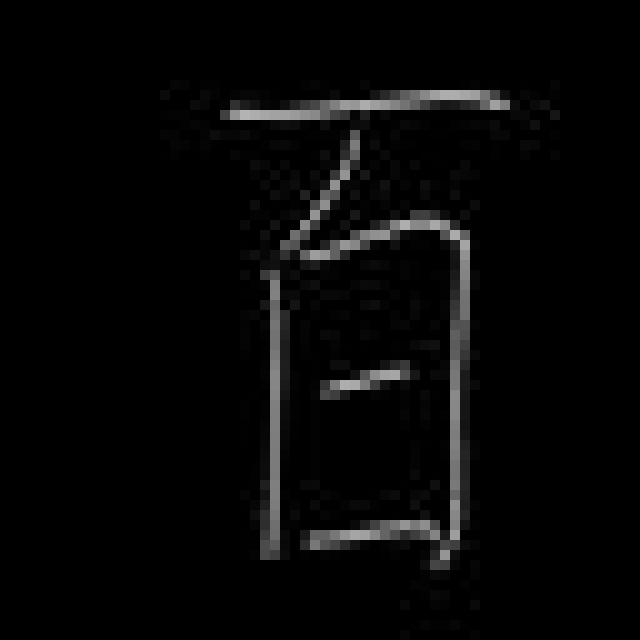100 -a hundred-: (212, 70, 514, 562)
